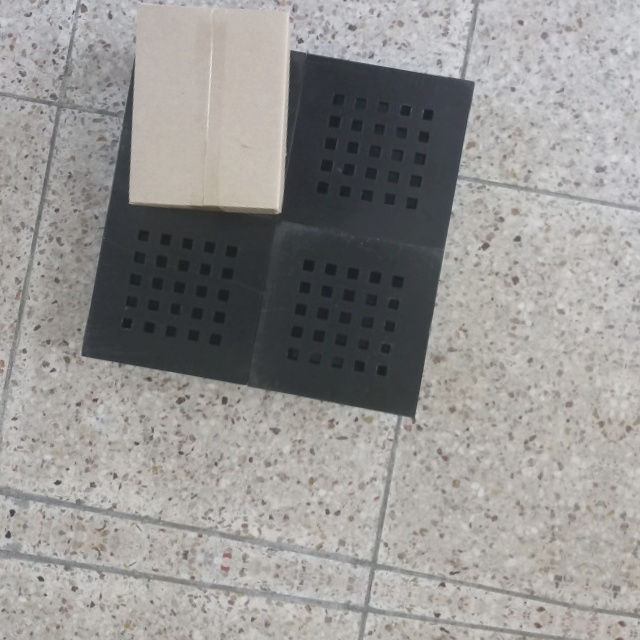box: (124, 1, 295, 219)
pallet: (62, 18, 483, 446)
